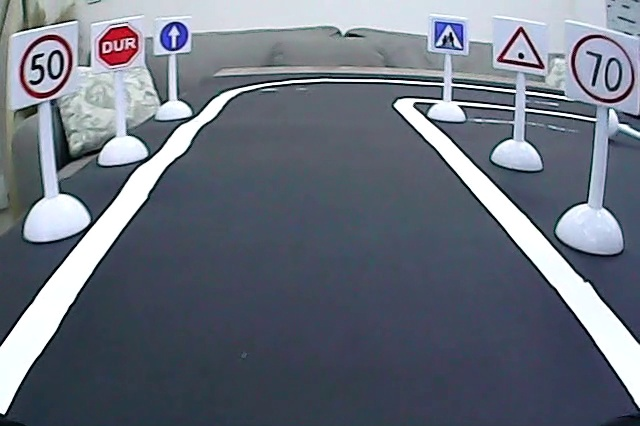green light: (494, 24, 549, 72)
school crossing: (430, 17, 467, 54)
speed limit 50: (16, 30, 74, 102)
speed limit 70: (569, 31, 636, 105)
stop sign: (95, 22, 142, 70)
